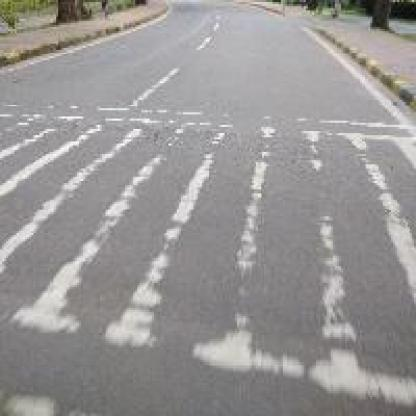Speed Bump: (0, 102, 412, 412)
